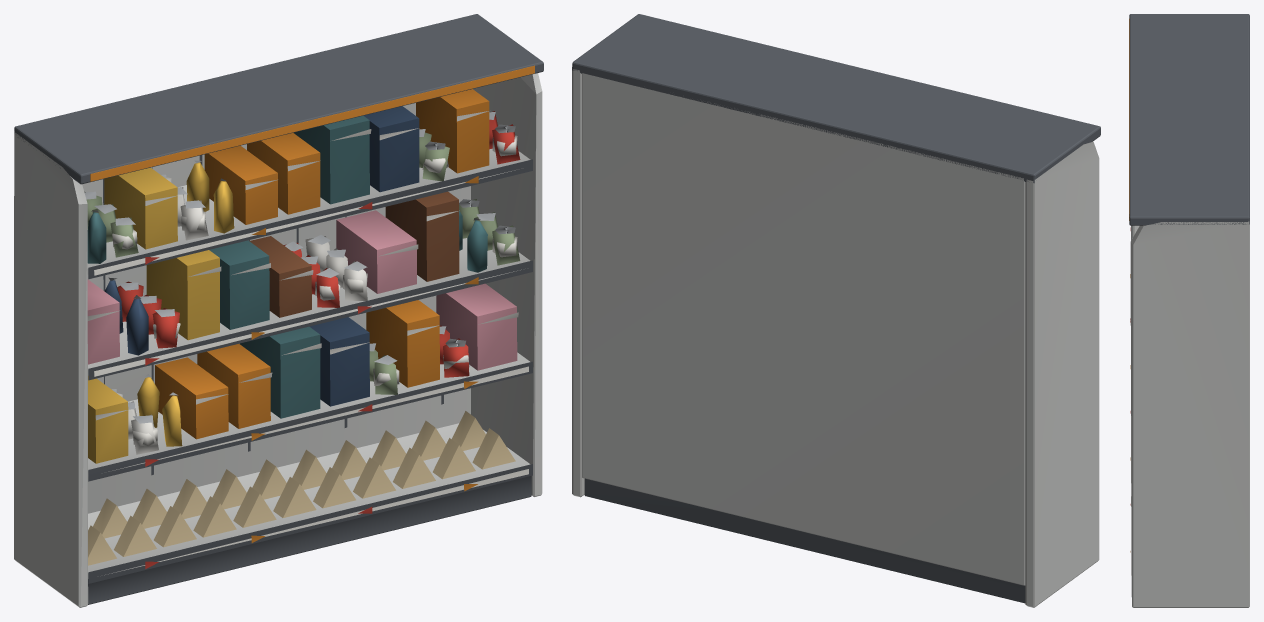
Rendered from groceryShelf.far.glb.
3 renders of one model, left to right at view 1: azimuth 30°, elevation 25°; view 2: azimuth 150°, elevation 25°; view 3: azimuth 270°, elevation 25°, orthographic. The views are drawn at different scales.
Parts seen in each view (by area): view 1: groceryShelf_far; view 2: groceryShelf_far; view 3: groceryShelf_far.
Part boxes in pixels (x1=…): groceryShelf_far: x1=14, y1=14, x2=543, y2=607; groceryShelf_far: x1=572, y1=14, x2=1100, y2=607; groceryShelf_far: x1=1129, y1=14, x2=1249, y2=607.
Bounding box in the file's own units: 1.92 × 1.72 × 0.481.
